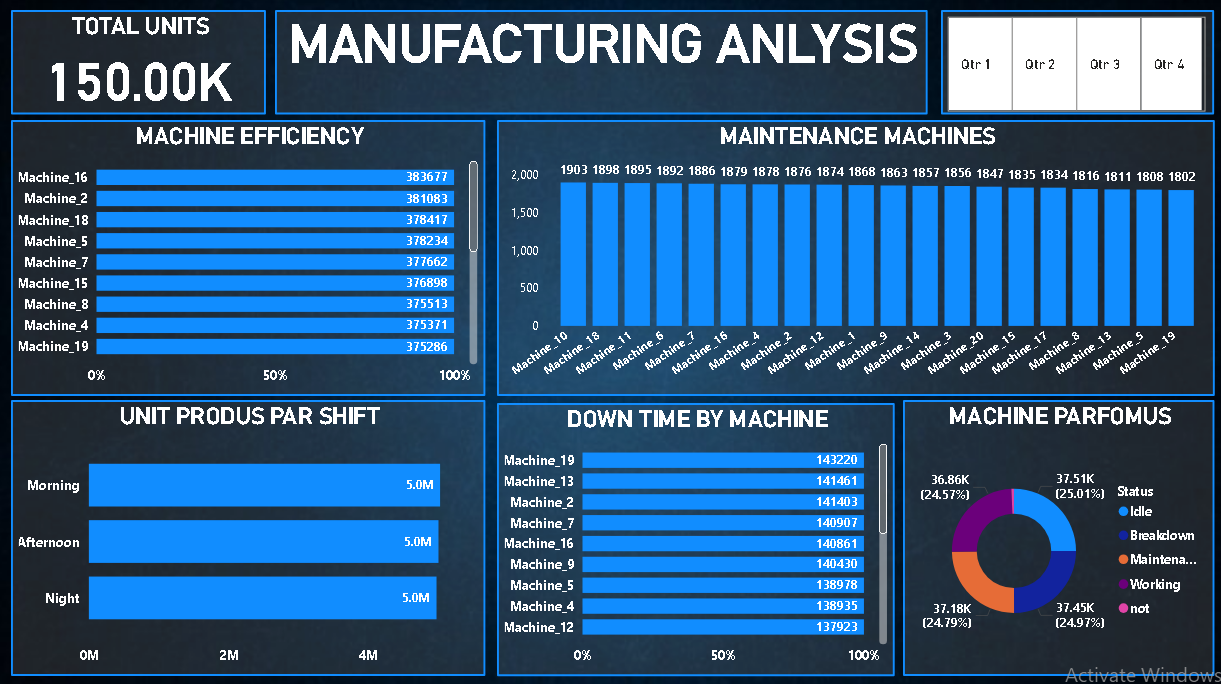

Layout of this report page (visuals, bound fields, positions):
{"tool":"powerbi","page":{"name":"Page 1","canvas":[1280,720],"ordinal":0},"visuals":[{"type":"barChart","title":"UNIT PRODUS PAR SHIFT","fields":{"Y":["Sum(manufacturing_data_150k (2).Units_Produced)"],"Category":["manufacturing_data_150k (2).Shift"]},"box":[13.8,419.5,494.5,287.8],"z":0},{"type":"card","title":"TOTAL UNITS ","fields":{"Values":["CountNonNull(manufacturing_data_150k (2).Units_Produced)"]},"box":[13.8,12.2,266.4,108.7],"z":1000},{"type":"hundredPercentStackedBarChart","title":"DOWN TIME BY MACHINE","fields":{"Y":["Sum(manufacturing_data_150k (2).Downtime_Minutes)"],"Category":["manufacturing_data_150k (2).Machine_ID"]},"box":[520.6,422.6,414.9,284.8],"z":2000},{"type":"hundredPercentStackedBarChart","title":"MACHINE EFFICIENCY","fields":{"Category":["manufacturing_data_150k (2).Machine_ID"],"Y":["Sum(manufacturing_data_150k (2).Power_Consumption_kWh)"]},"box":[13.8,127.1,494.5,287.8],"z":3000},{"type":"donutChart","title":"MACHINE PARFOMUS","fields":{"Category":["manufacturing_data_150k (2).Status"],"Y":["CountNonNull(manufacturing_data_150k (2).Machine_ID)"]},"box":[944.7,419.5,324.6,287.8],"z":3001},{"type":"clusteredColumnChart","title":"MAINTENANCE MACHINES","fields":{"Category":["manufacturing_data_150k (2).Machine_ID"],"Y":["CountNonNull(manufacturing_data_150k (2).Status)"]},"box":[520.6,127.1,748.7,287.8],"z":3002},{"type":"textbox","title":"MANUFACTURING ANLYSIS","box":[289.4,12.2,681.3,108.7],"z":3003},{"type":"advancedSlicerVisual","fields":{"Values":["manufacturing_data_150k (2).Date.Variation.Date Hierarchy.Quarter"]},"box":[984.5,12.2,284.8,108.7],"z":3004}]}

Visuals, with their boxes in screenshot pixels (x1, y1, x2, y2), scaled from the page's 1280x720 canvas onto the 1221x684 screenshot:
"UNIT PRODUS PAR SHIFT" barChart: <bbox>13, 399, 485, 672</bbox>
"TOTAL UNITS " card: <bbox>13, 12, 267, 115</bbox>
"DOWN TIME BY MACHINE" hundredPercentStackedBarChart: <bbox>497, 401, 892, 672</bbox>
"MACHINE EFFICIENCY" hundredPercentStackedBarChart: <bbox>13, 121, 485, 394</bbox>
"MACHINE PARFOMUS" donutChart: <bbox>901, 399, 1211, 672</bbox>
"MAINTENANCE MACHINES" clusteredColumnChart: <bbox>497, 121, 1211, 394</bbox>
"MANUFACTURING ANLYSIS" textbox: <bbox>276, 12, 926, 115</bbox>
advancedSlicerVisual - manufacturing_data_150k (2).Date.Variation.Date Hierarchy.Quarter: <bbox>939, 12, 1211, 115</bbox>
